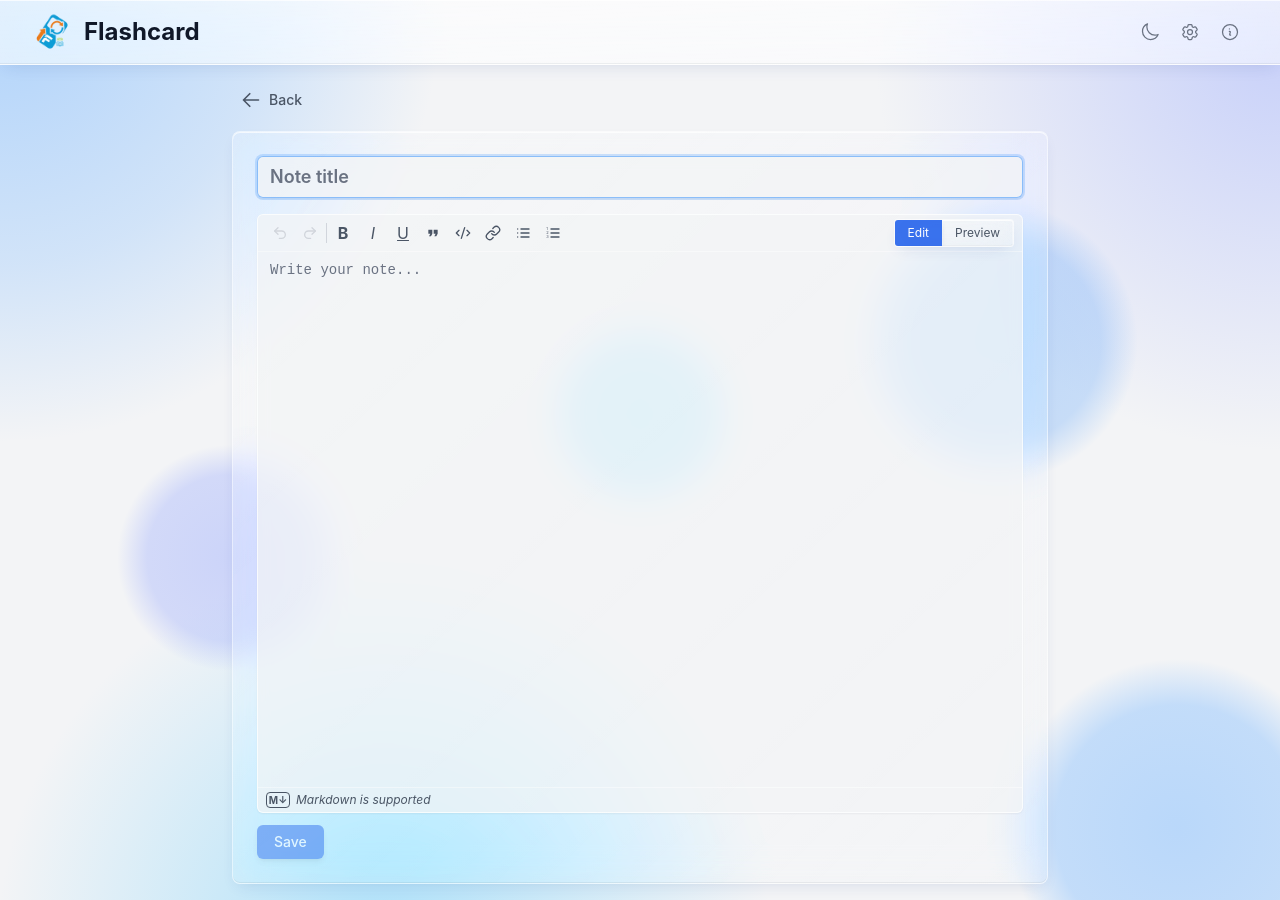
Scenario: NoteCreatePage › shows an error and re-enables Save when creation fails
Type "My note" into the field with placeholder "Note title" at (640,177), box [257, 156, 1023, 198]
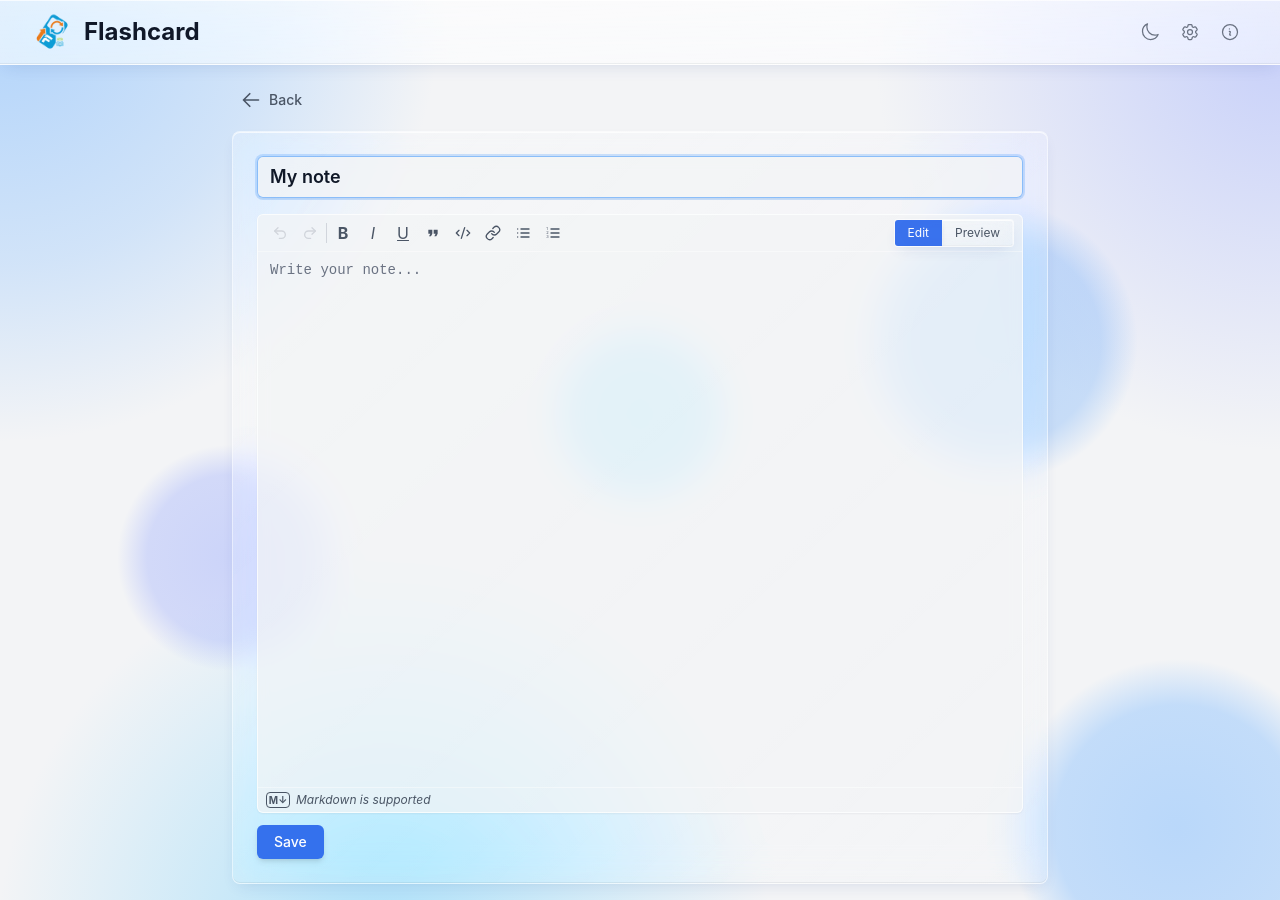
Click the button "Save" at (290,842), box [257, 825, 324, 859]
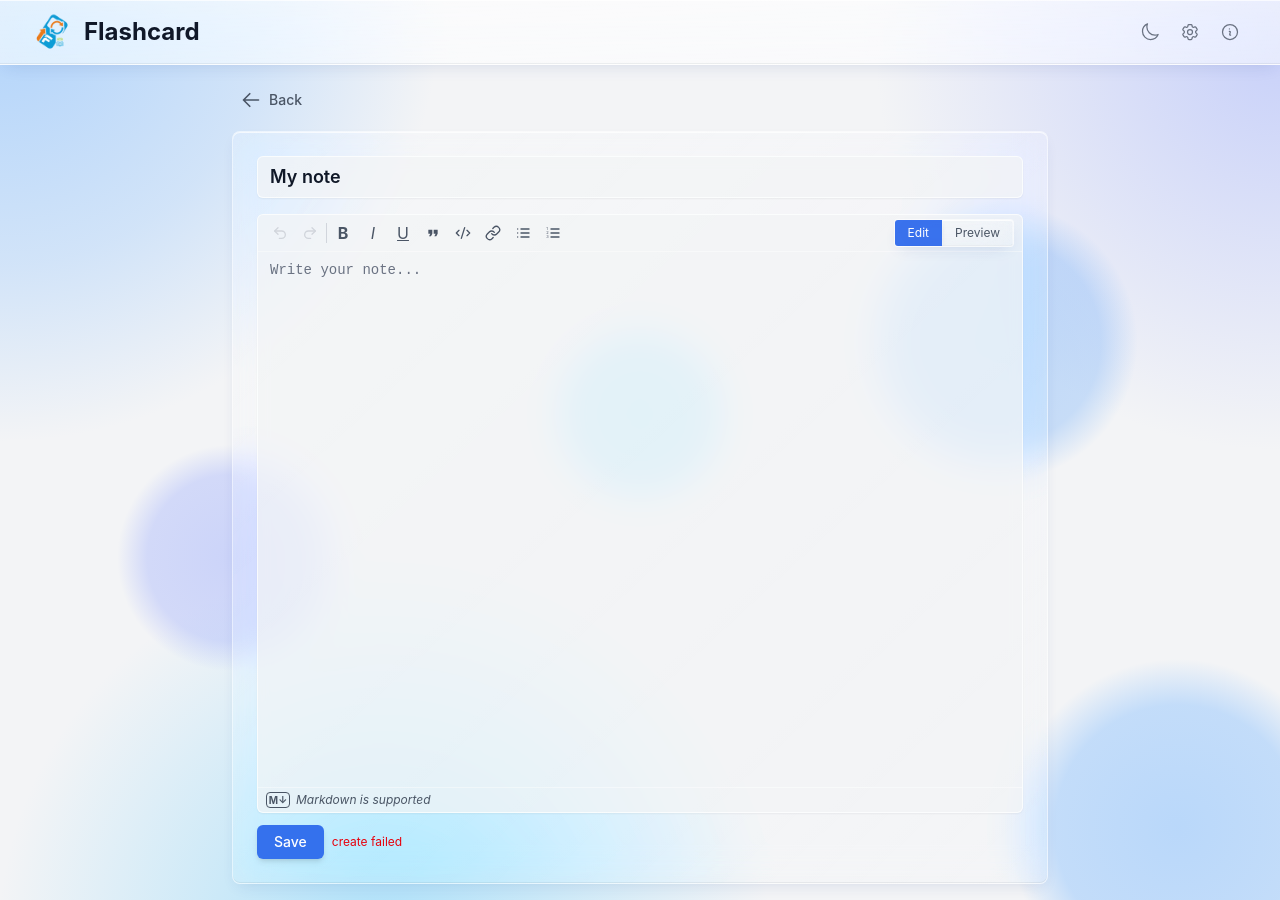
Expected: the button "Save" is enabled, [257, 825, 324, 859]
Expected: the text "create failed" is shown, [332, 834, 402, 850]
